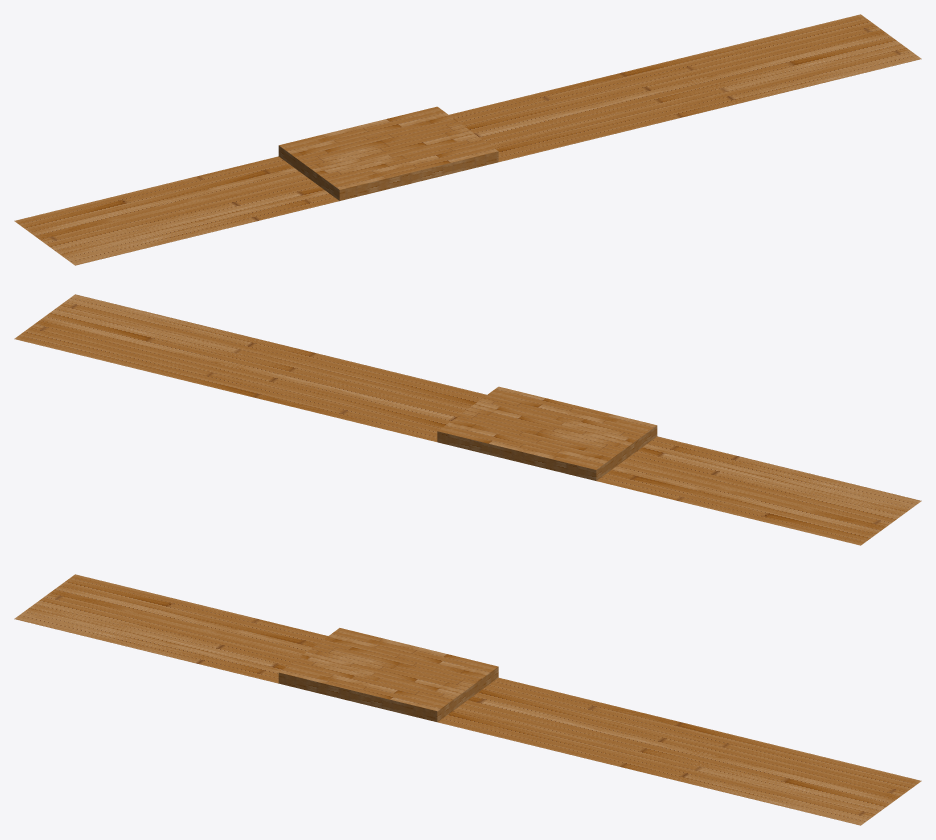
The model's file is woodLVL2.dae.
3 views of the same model, one above another, from view 1: azimuth 30°, elevation 25°; view 2: azimuth 150°, elevation 25°; view 3: azimuth 330°, elevation 25° (orthographic).
Parts seen in each view (by area): view 1: Plane, Cube; view 2: Plane, Cube; view 3: Plane, Cube.
Boxes of the visible parts, left/top/right/bottom form: Plane: left=14, top=14, right=921, bottom=265; Cube: left=278, top=106, right=498, bottom=200; Plane: left=14, top=294, right=921, bottom=545; Cube: left=437, top=386, right=657, bottom=480; Plane: left=14, top=574, right=921, bottom=825; Cube: left=278, top=628, right=498, bottom=722.
Bounding box in the file's own units: 32 × 4 × 0.4.
1 material, 1 textured.
